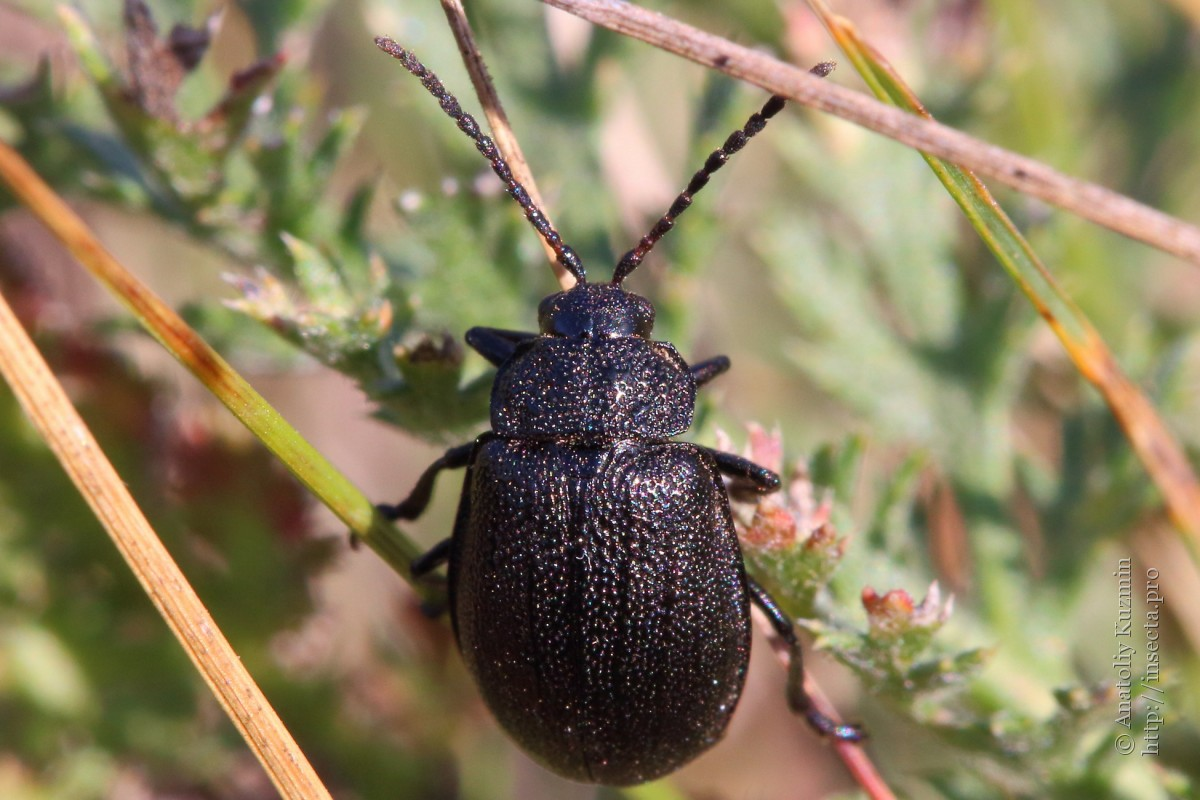Galeruca_tanaceti: (351, 27, 871, 783)
